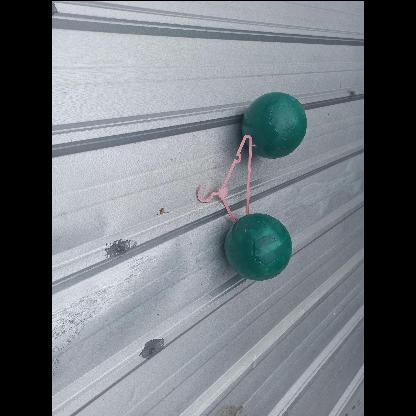green_ball: (242, 89, 312, 158), (226, 213, 294, 281)
